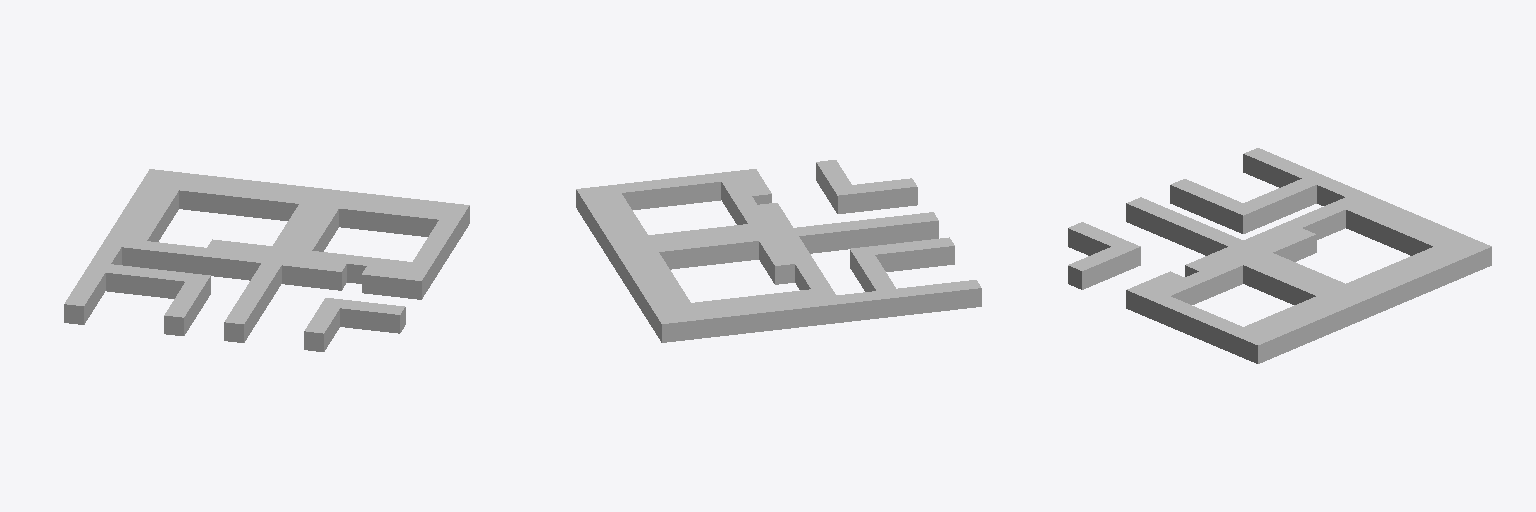
File: wolf_map.obj
3 views of the same model, side by side, from view 1: azimuth 30°, elevation 25°; view 2: azimuth 150°, elevation 25°; view 3: azimuth 270°, elevation 25° (orthographic).
Parts seen in each view (by area): view 1: Cube.001; view 2: Cube.001; view 3: Cube.001.
Part boxes in pixels (x1,y1,x2,y2): Cube.001: (64, 169, 469, 351); Cube.001: (576, 160, 981, 342); Cube.001: (1068, 148, 1491, 363).
Bounding box in the file's own units: 22.63 × 1 × 20.51.